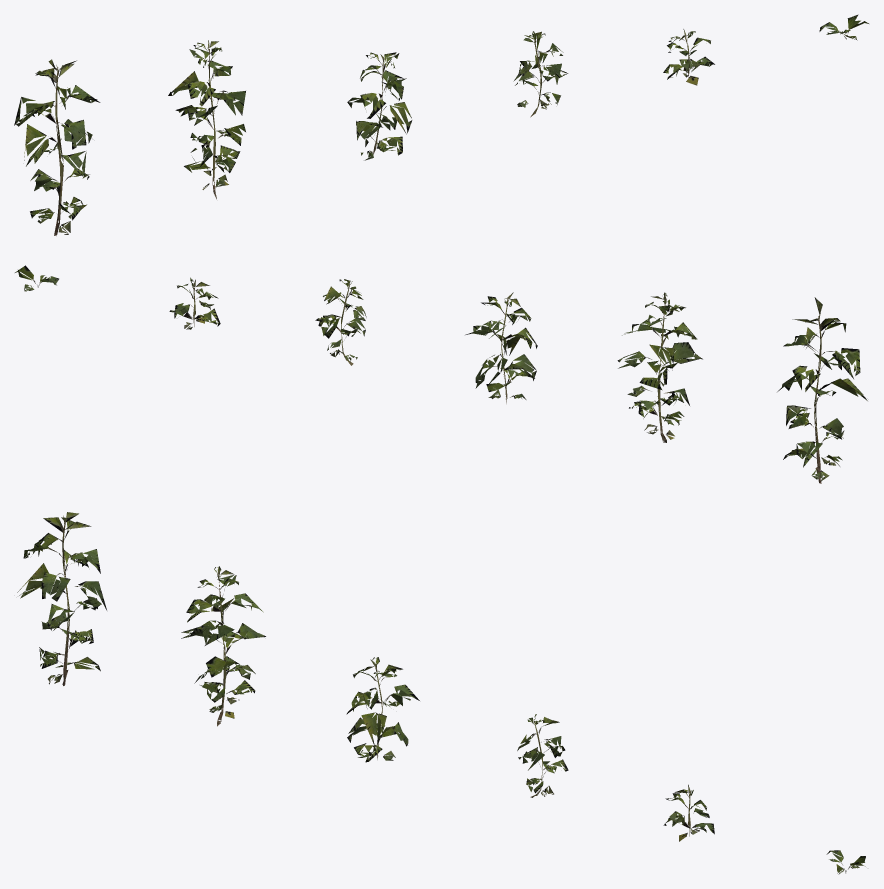
Rendered from nettle_plant.glb.
3 renders of one model, top to bottom at view 1: azimuth 30°, elevation 25°; view 2: azimuth 150°, elevation 25°; view 3: azimuth 330°, elevation 25°, orthographic.
Parts seen in each view (by area): view 1: nettle_plant_medium_a_LOD0; view 2: nettle_plant_medium_a_LOD0; view 3: nettle_plant_medium_a_LOD0.
Part boxes in pixels (left/top/right/bottom): nettle_plant_medium_a_LOD0: left=14, top=14, right=868, bottom=235; nettle_plant_medium_a_LOD0: left=15, top=265, right=867, bottom=483; nettle_plant_medium_a_LOD0: left=17, top=512, right=865, bottom=874.
Size of the model in its own units: 1.08 by 0.2168 by 0.0964.
Materials: 1 (1 with a texture image).
